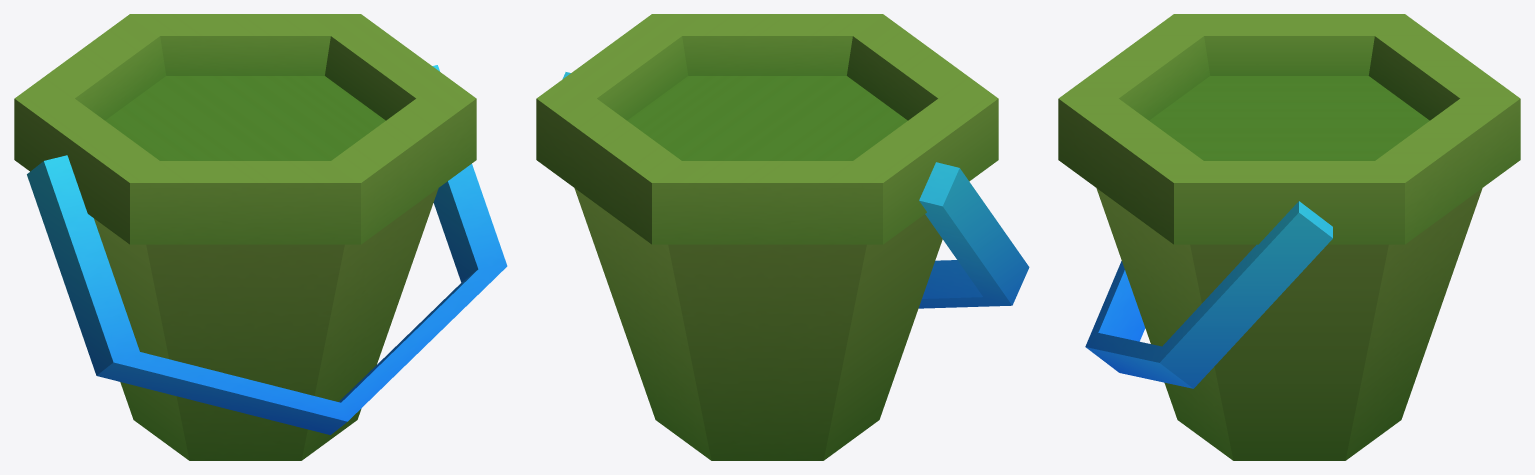
Rendered from cubetaVerde.fbx.
3 renders of one model, left to right at view 1: azimuth 30°, elevation 25°; view 2: azimuth 150°, elevation 25°; view 3: azimuth 270°, elevation 25°, orthographic.
Visible parts, largest first — view 1: cubetaVerde; view 2: cubetaVerde; view 3: cubetaVerde.
Part boxes in pixels (left/top/right/bottom): cubetaVerde: left=14, top=14, right=507, bottom=460; cubetaVerde: left=536, top=14, right=1029, bottom=460; cubetaVerde: left=1058, top=14, right=1520, bottom=460.
Bounding box in the file's own units: 40.43 × 31.52 × 41.07.
1 material, 1 textured.
